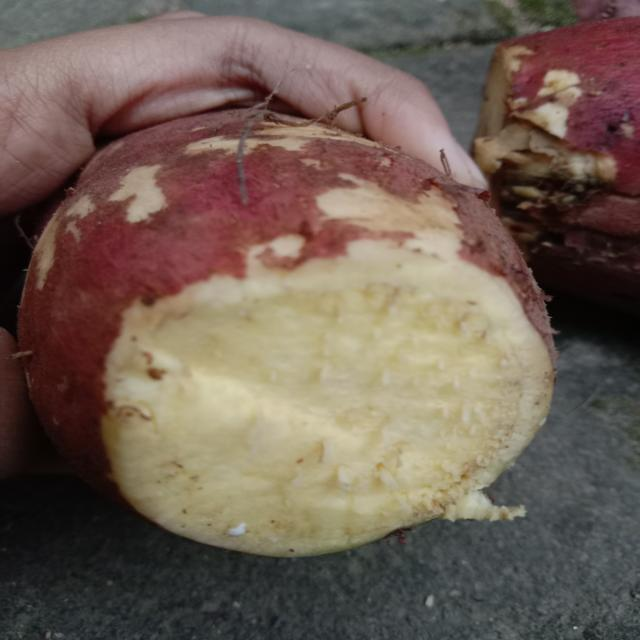Healthy Sweet Potato: (102, 241, 553, 556)
